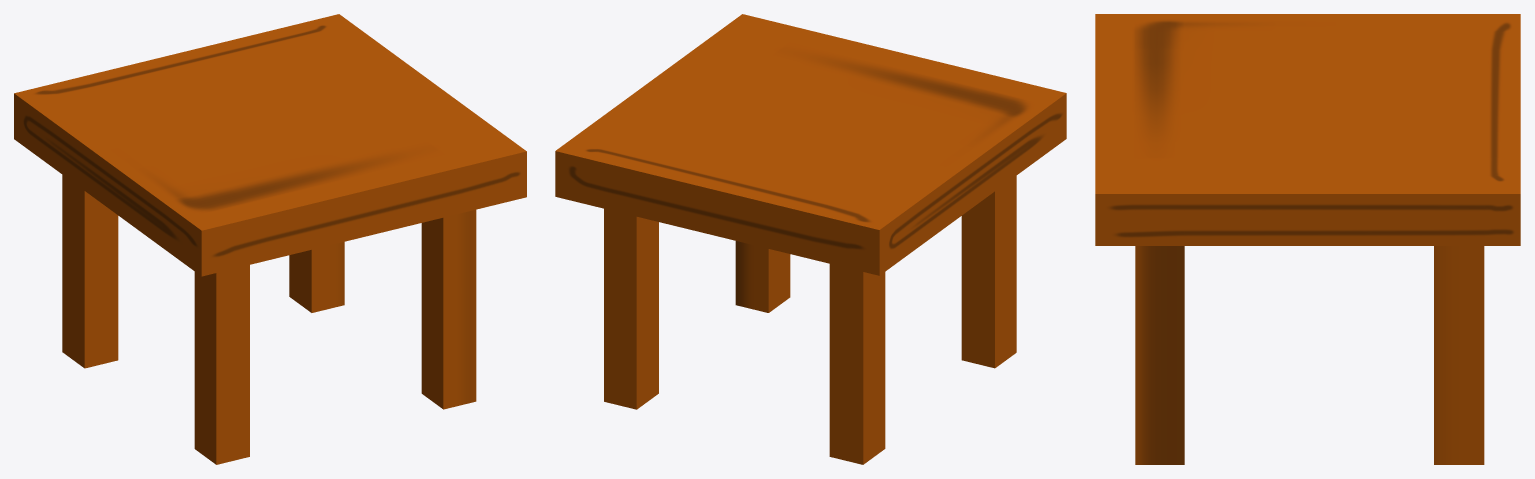
Rendered from Workbench.fbx.
3 renders of one model, left to right at view 1: azimuth 30°, elevation 25°; view 2: azimuth 150°, elevation 25°; view 3: azimuth 270°, elevation 25°, orthographic. The views are drawn at different scales.
Visible parts, largest first — view 1: Table; view 2: Table; view 3: Table.
Boxes of the visible parts, left/top/right/bottom form: Table: left=14, top=14, right=526, bottom=464; Table: left=555, top=14, right=1066, bottom=464; Table: left=1095, top=14, right=1520, bottom=464.
Size of the model in its own units: 1170 by 877 by 1170.
1 material, 1 textured.
